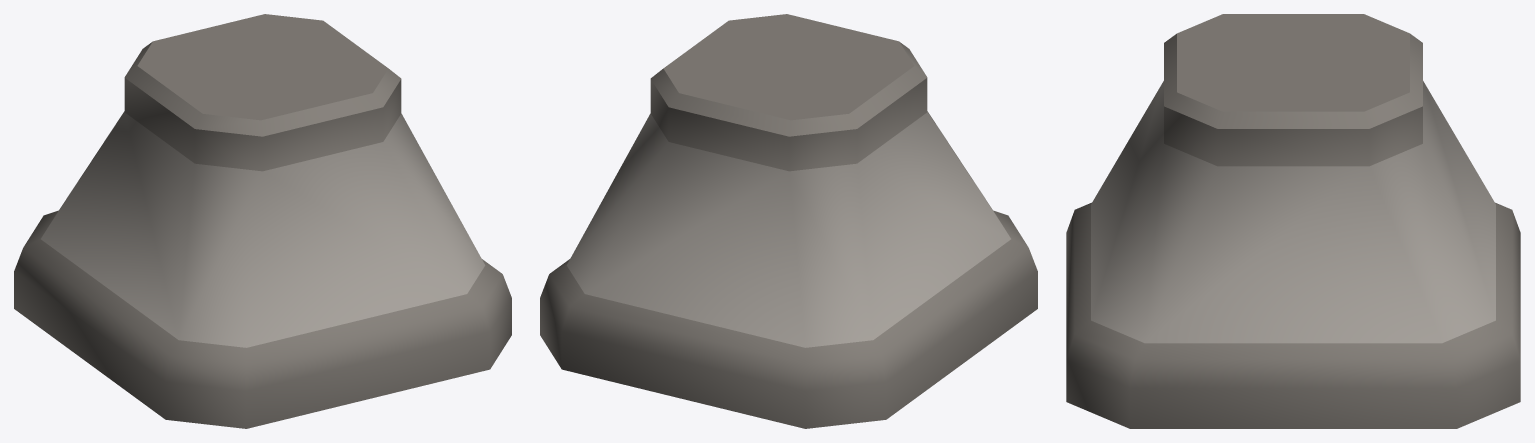
Rendered from Base Wall 01 Inner Corner.FBX.
3 views of the same model, side by side, from view 1: azimuth 30°, elevation 25°; view 2: azimuth 150°, elevation 25°; view 3: azimuth 270°, elevation 25° (orthographic). The views are drawn at different scales.
Parts seen in each view (by area): view 1: Base Wall 01 Inner Corner; view 2: Base Wall 01 Inner Corner; view 3: Base Wall 01 Inner Corner.
Boxes of the visible parts, left/top/right/bottom form: Base Wall 01 Inner Corner: left=14, top=14, right=511, bottom=428; Base Wall 01 Inner Corner: left=540, top=14, right=1037, bottom=428; Base Wall 01 Inner Corner: left=1066, top=14, right=1520, bottom=428.
Size of the model in its own units: 173 by 122 by 182.
1 material, 1 textured.
